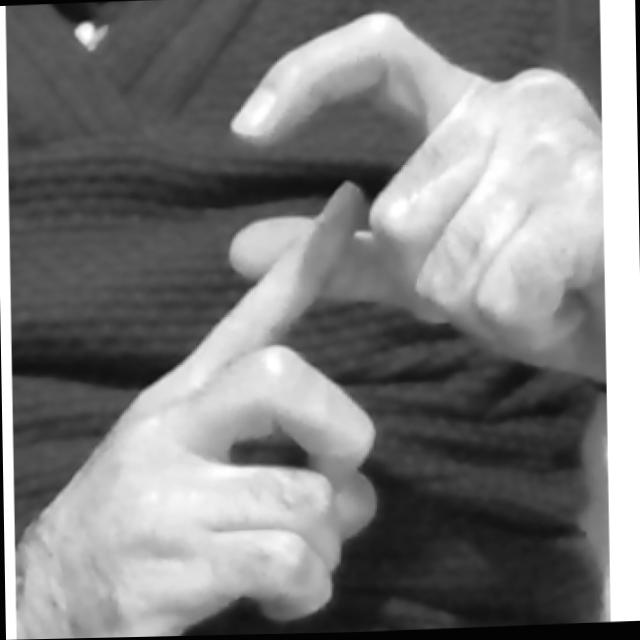C_: (7, 0, 610, 640)
